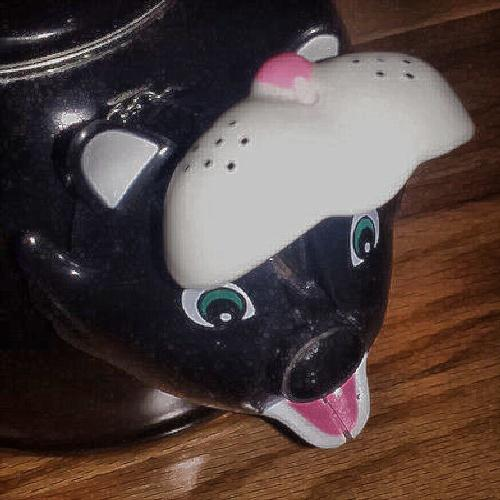kettle: (31, 27, 389, 463)
